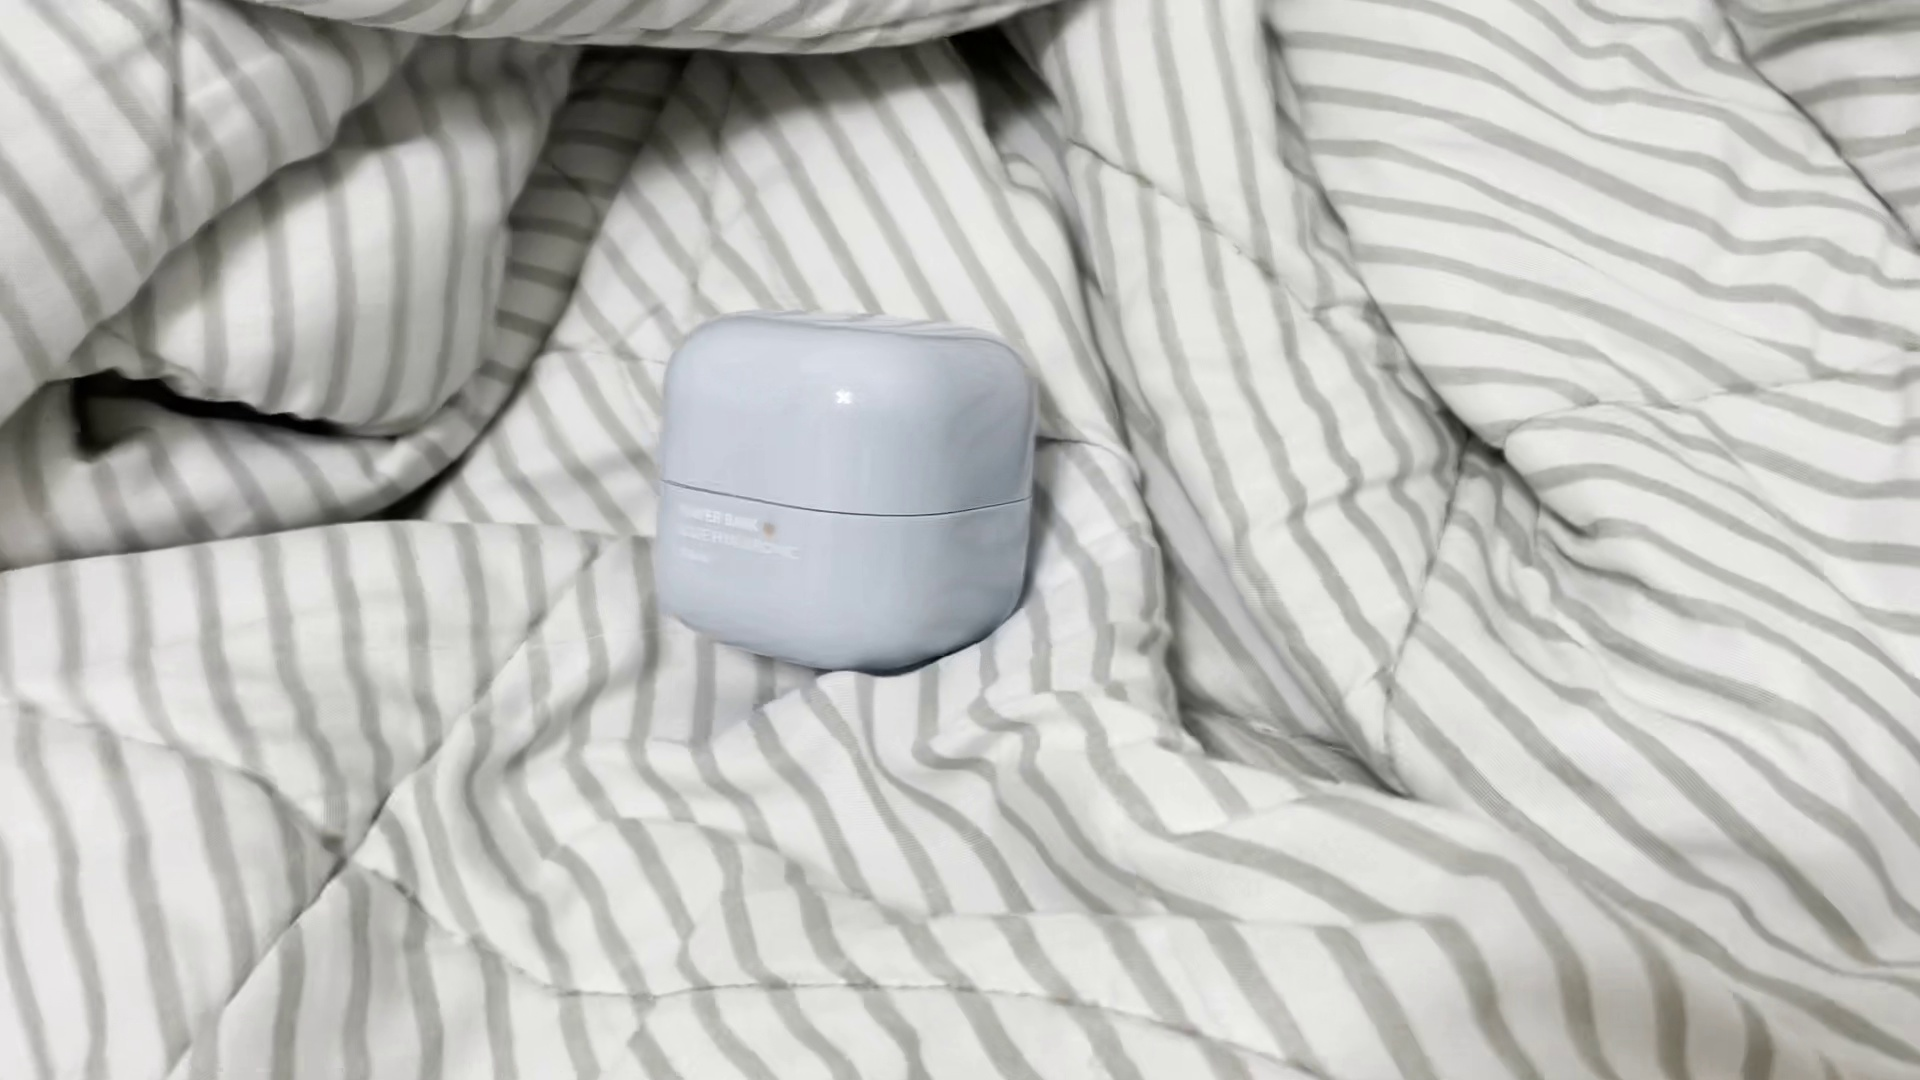cream: (659, 305, 1040, 680)
